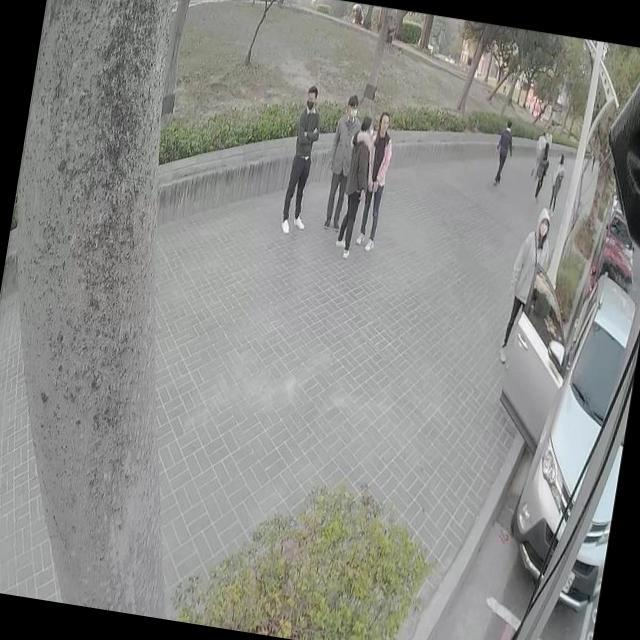person: (494, 198, 558, 371), (280, 81, 324, 232), (334, 115, 379, 260), (320, 91, 363, 234), (358, 113, 397, 251), (488, 115, 518, 188), (546, 151, 566, 215), (532, 142, 552, 200)
